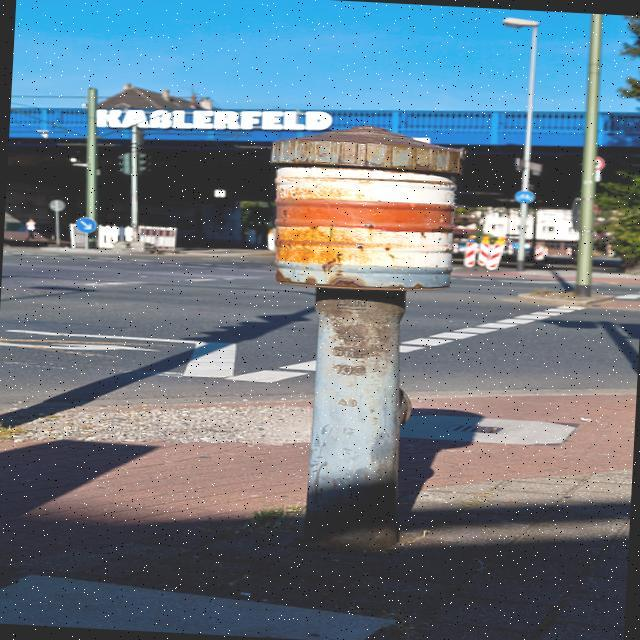fire_hydrant: (250, 120, 466, 563)
